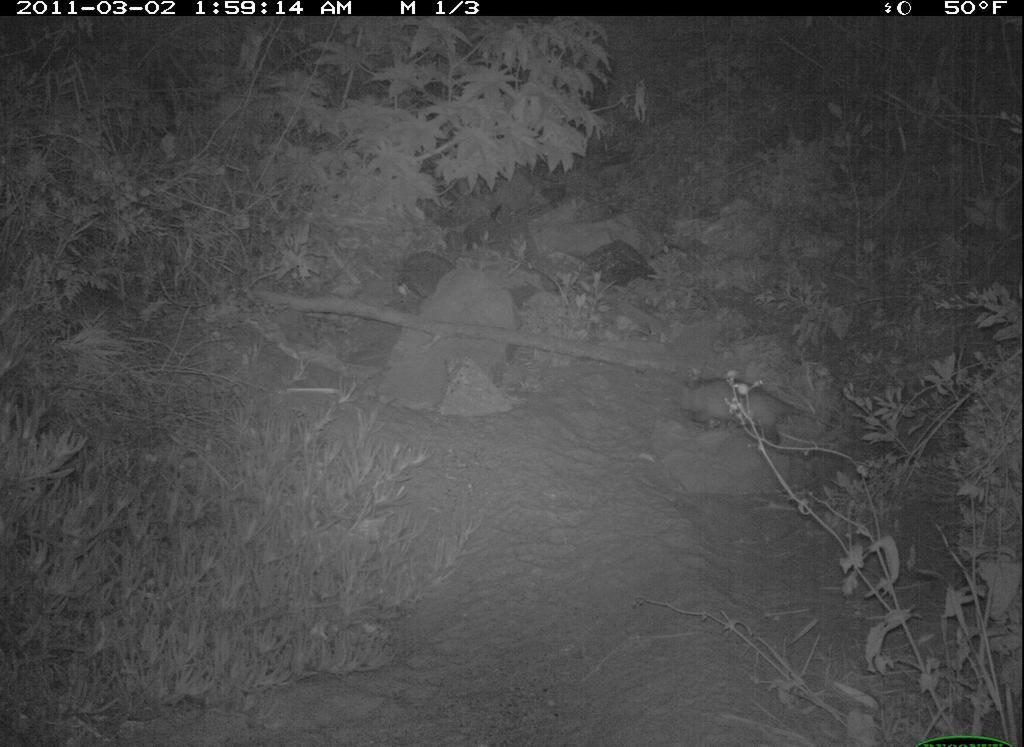opossum: (678, 369, 848, 460)
